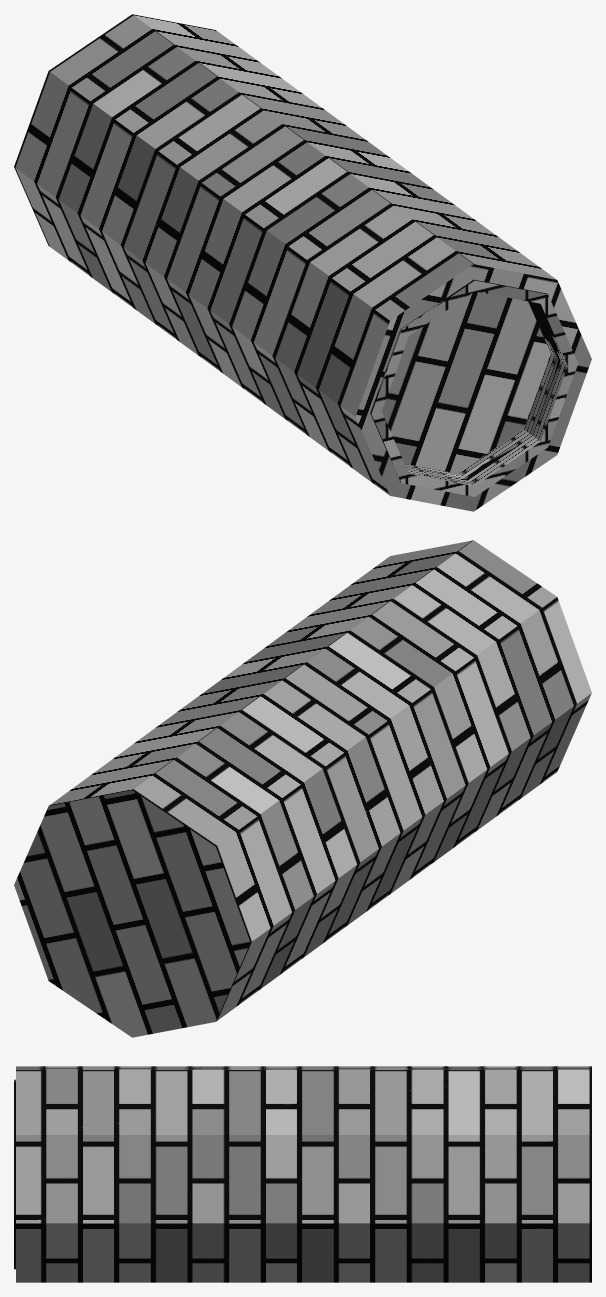
File: Tower3Baked.gltf
3 views of the same model, one above another, from view 1: azimuth 30°, elevation 25°; view 2: azimuth 150°, elevation 25°; view 3: azimuth 270°, elevation 25° (orthographic). The views are drawn at different scales.
Parts seen in each view (by area): view 1: OutterTower, SubtractMe; view 2: OutterTower; view 3: OutterTower, SubtractMe.
Part boxes in pixels (x1=…): OutterTower: x1=14, y1=14, x2=591, y2=511; SubtractMe: x1=370, y1=279, x2=578, y2=496; OutterTower: x1=14, y1=540, x2=591, y2=1037; OutterTower: x1=16, y1=1066, x2=591, y2=1282; SubtractMe: x1=14, y1=1079, x2=15, y2=1269.
Bounding box in the file's own units: 4 × 4 × 10.03.
1 material, 1 textured.
